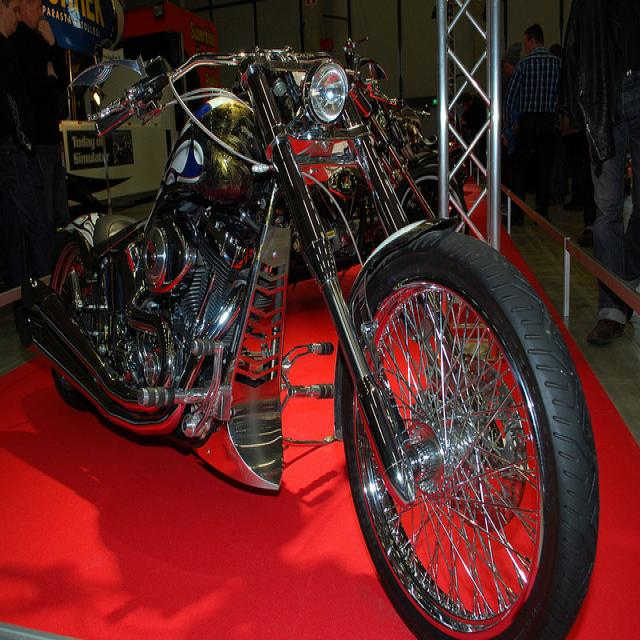motor: (14, 36, 599, 630)
